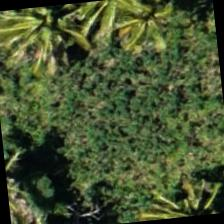Kelapa_Sawit: (0, 3, 87, 78), (96, 0, 193, 67)
